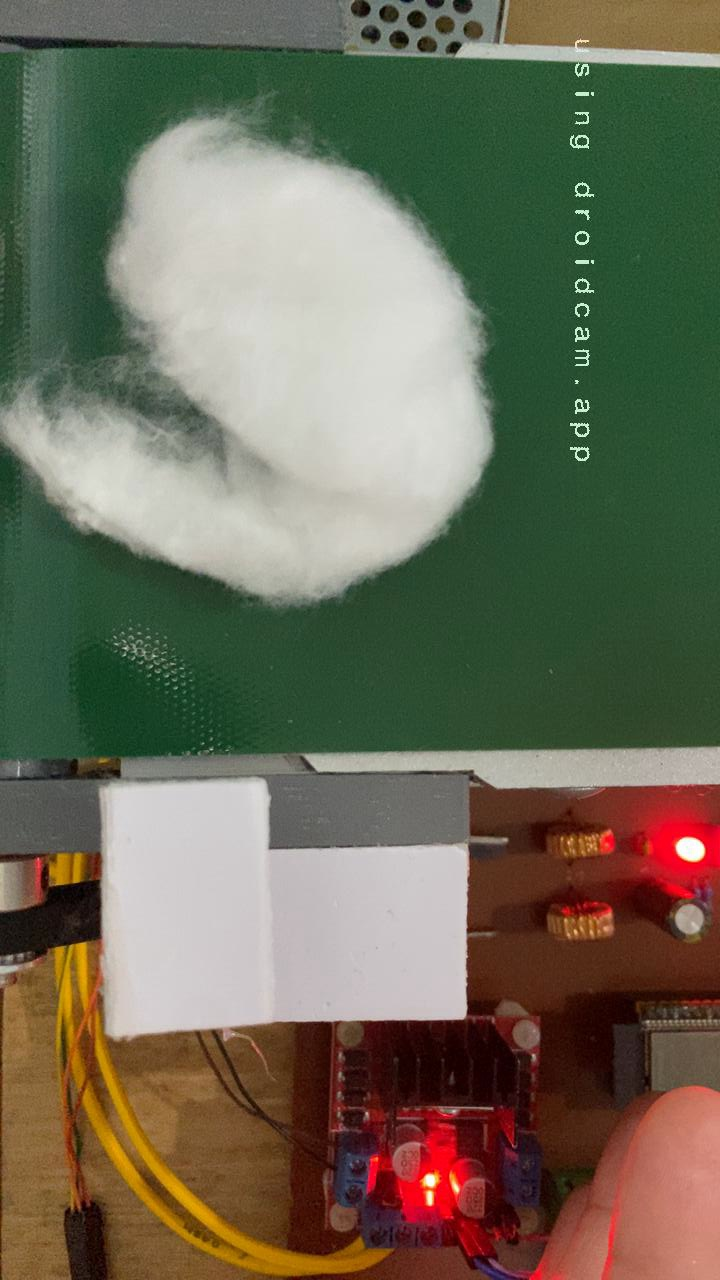cotton: (0, 110, 501, 613)
